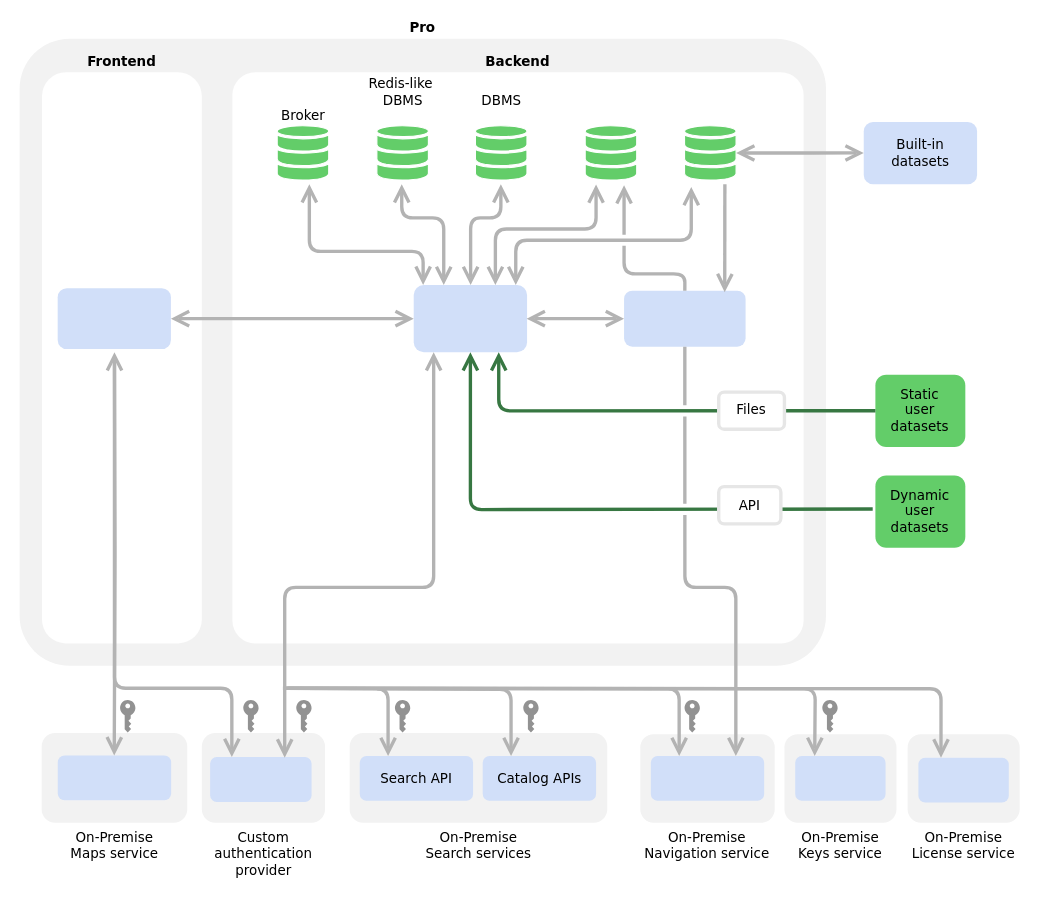
The diagram is 1038 pixels wide and 897 high, and some of its shapes have lost their labels. Here are the shapes that lost their labels. From the top down, the centre of each, then its label:
pixel 610 153: ElasticSearch
pixel 709 153: File/object storage
pixel 113 318: Pro UI
pixel 470 318: Pro API
pixel 684 318: assetImporter
pixel 114 777: MapGL JS API
pixel 260 779: OpenID Connect
pixel 707 777: Isochrone API
pixel 840 777: Keys API
pixel 963 779: License service
